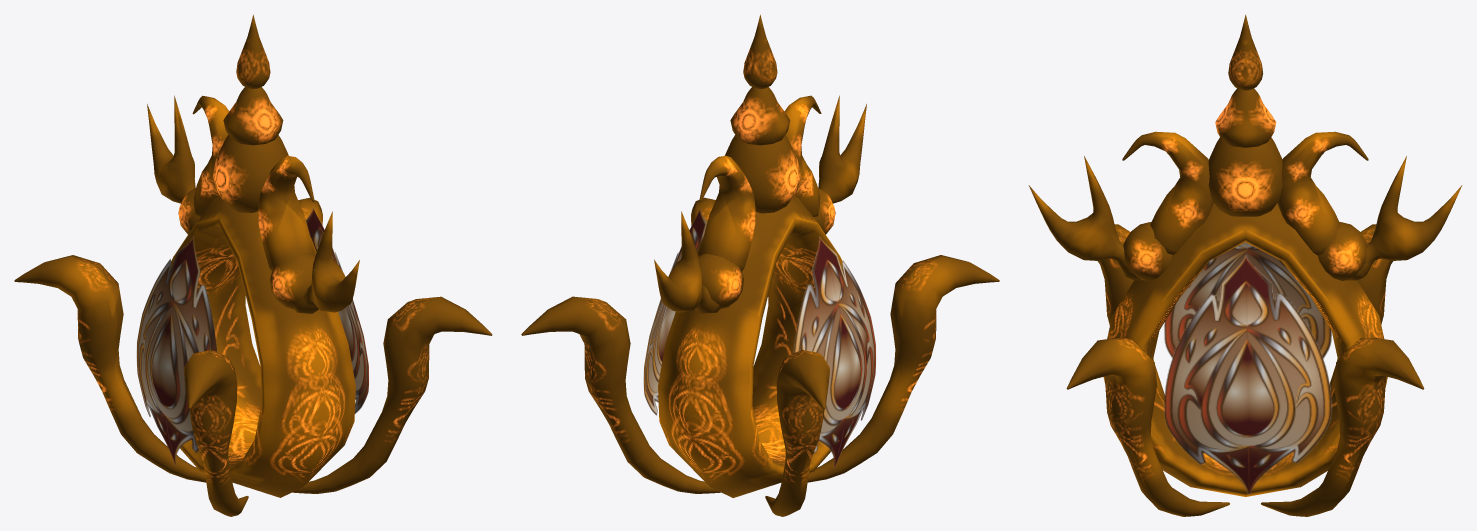
The model's file is Pagoda_art.glb.
3 renders of one model, left to right at view 1: azimuth 30°, elevation 25°; view 2: azimuth 150°, elevation 25°; view 3: azimuth 270°, elevation 25°, orthographic.
Parts seen in each view (by area): view 1: Pagoda_Art; view 2: Pagoda_Art; view 3: Pagoda_Art.
Boxes of the visible parts, bbox=[...] form: Pagoda_Art: bbox=[14, 14, 492, 516]; Pagoda_Art: bbox=[521, 14, 999, 516]; Pagoda_Art: bbox=[1028, 14, 1462, 516].
Size of what is drawn, in the model's own units: 4.52 by 6.76 by 5.5.
2 materials, 2 textured.
